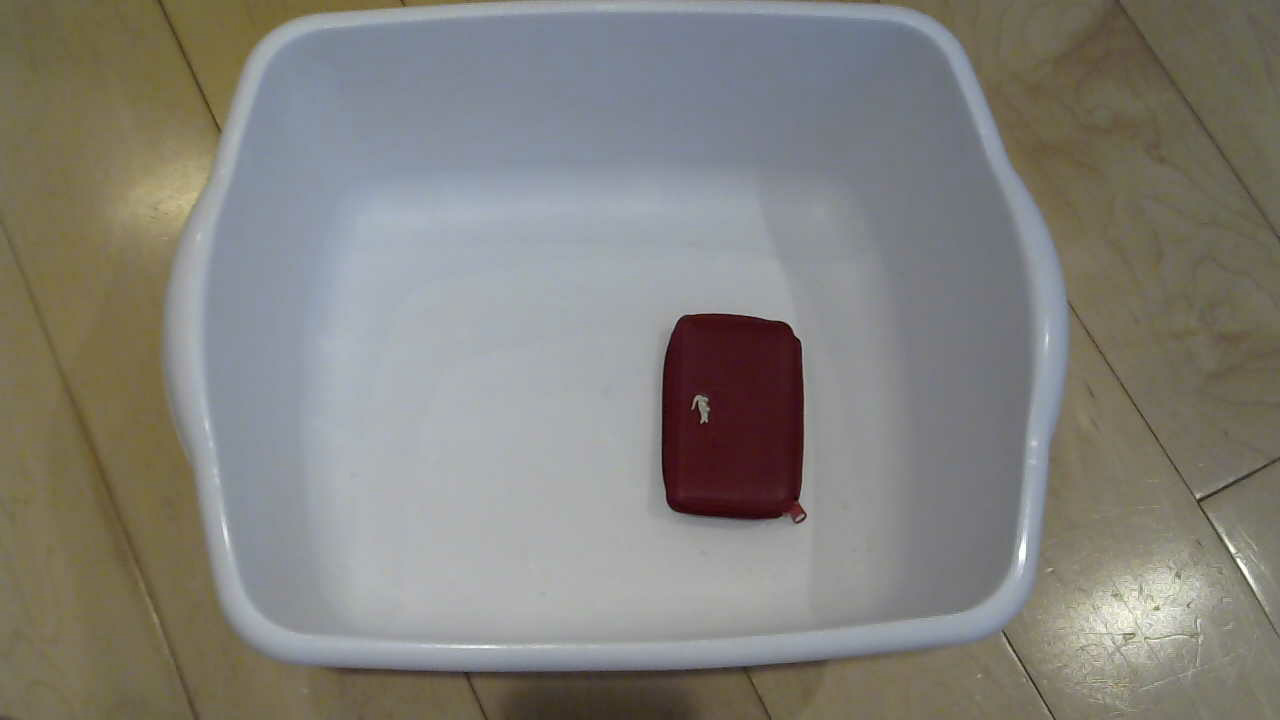wallet: (650, 310, 828, 525)
